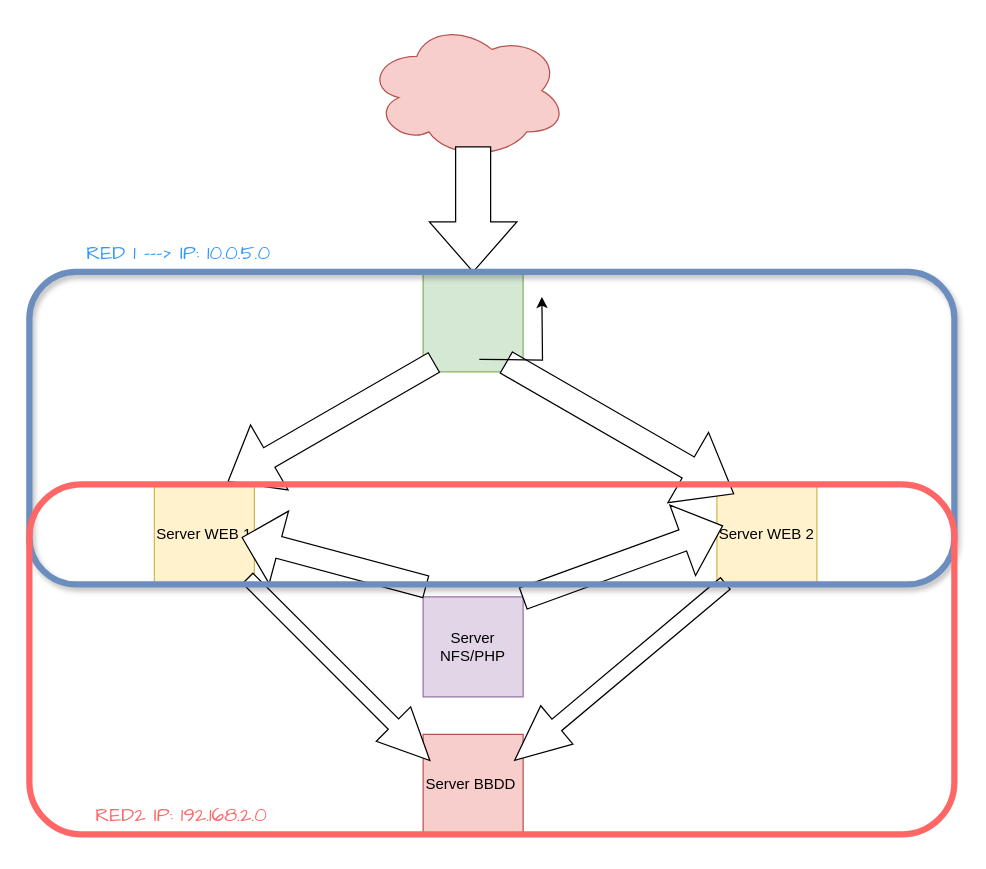
The diagram is 986 pixels wide and 869 high, and some of its shapes have lost their labels. The shapes that lost their labels are listed below. From the top down, each one's centre as x and y in pixels, then its label:
At point 466,90: "INET".
At point 472,321: "Balanceador de Carga NGINX".
